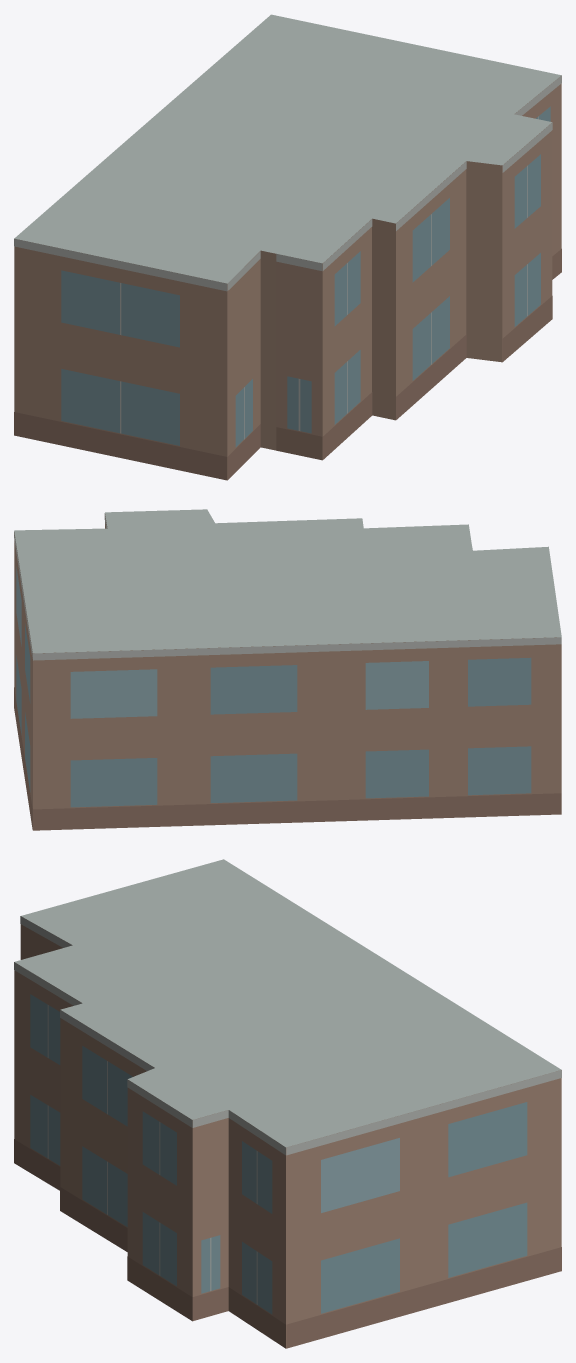
File: survey-upis-32667143.glb
3 renders of one model, top to bottom at view 1: azimuth 30°, elevation 25°; view 2: azimuth 150°, elevation 25°; view 3: azimuth 270°, elevation 25°, orthographic. The views are drawn at different scales.
Visible parts, largest first — view 1: survey-upis-32667143.tmp; view 2: survey-upis-32667143.tmp; view 3: survey-upis-32667143.tmp.
Boxes of the visible parts, x1,y1,x2,y2 form: survey-upis-32667143.tmp: (14,14,561,480); survey-upis-32667143.tmp: (14,509,561,830); survey-upis-32667143.tmp: (14,859,561,1348).
Bounding box in the file's own units: 18.76 × 6.1 × 15.06.
